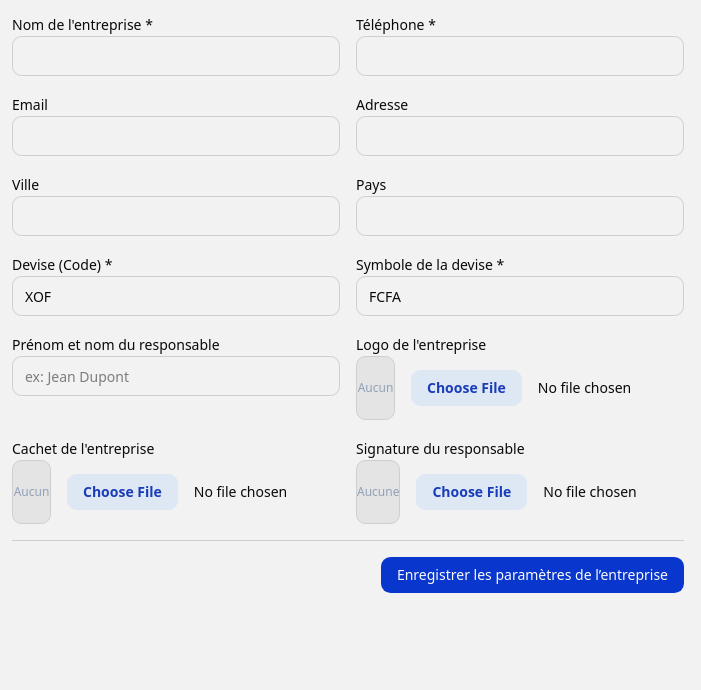
Scenario: Paramètres de l’entreprise › affiche une action explicite et enregistre les paramètres
The image size is (701, 690).
In the field labelled "Nom de l'entreprise *": coordinates (176, 56) [12,36,340,76], type "SAMTECH"
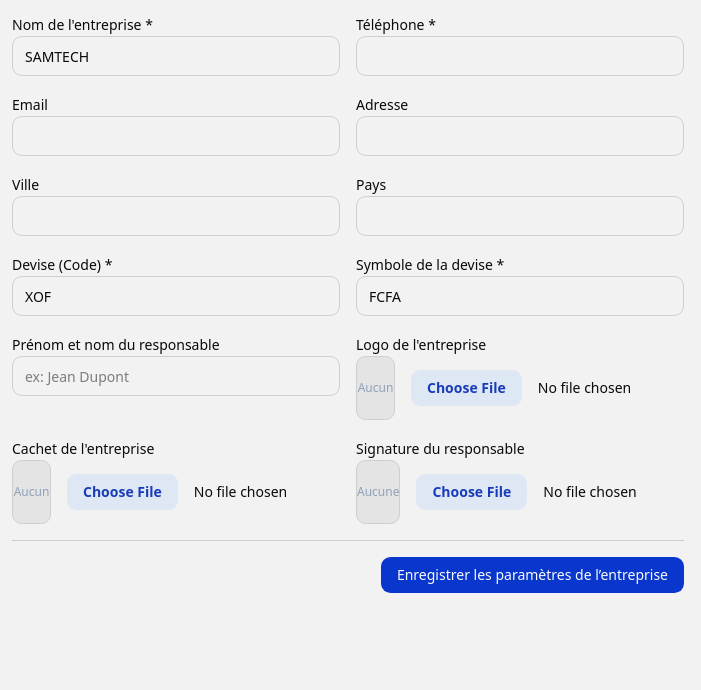
In the field labelled "Téléphone *": coordinates (520, 56) [356,36,684,76], type "+221770000000"
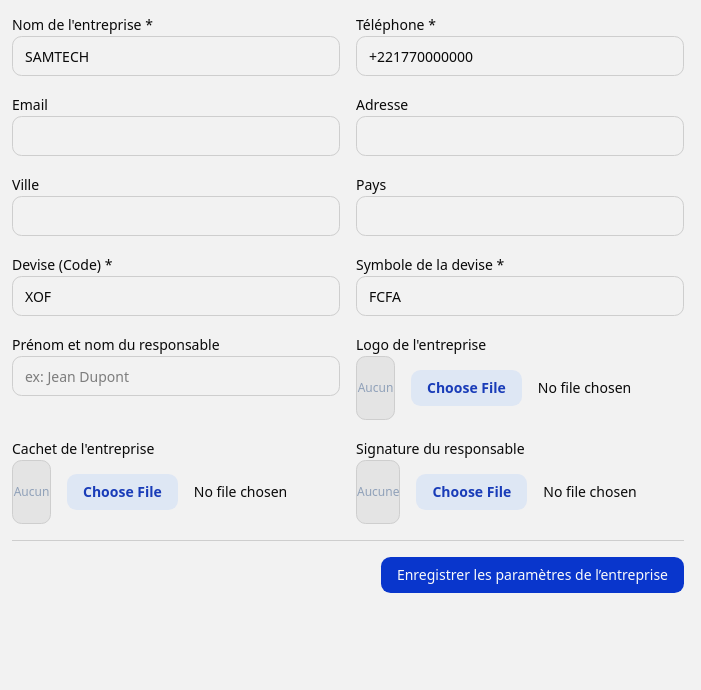
Click the button "Enregistrer les paramètres de l’entreprise": coordinates (532, 575) [381,557,684,593]
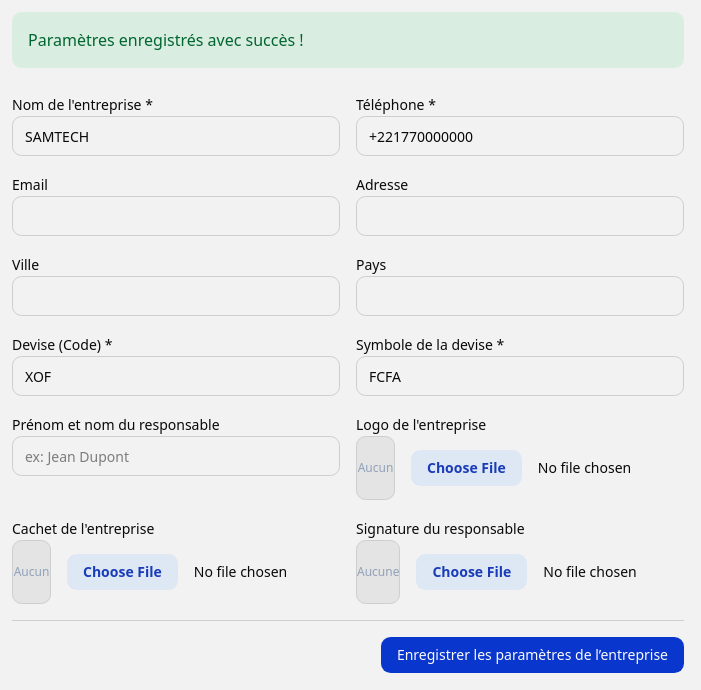
expect the message shows "Paramètres enregistrés avec succès": met, box [28,29,304,51]
